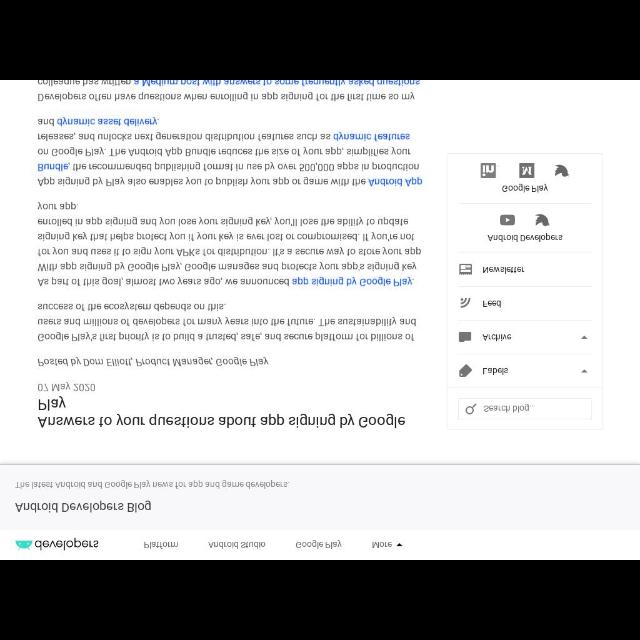icon: (486, 232, 564, 242), (456, 364, 474, 378), (459, 262, 473, 276), (460, 296, 472, 310), (466, 402, 476, 416), (458, 332, 472, 342), (582, 333, 588, 341), (582, 367, 588, 375), (397, 542, 403, 548)
image: (16, 536, 102, 554), (518, 164, 534, 180), (555, 162, 571, 178), (536, 211, 550, 227), (482, 162, 496, 178), (500, 214, 516, 226)
input: (457, 398, 595, 419)
link: (134, 81, 422, 89), (292, 276, 413, 288), (58, 116, 158, 128), (334, 129, 412, 141), (370, 176, 422, 188), (38, 164, 68, 172)
spinner: (480, 355, 602, 389), (478, 323, 602, 352), (370, 536, 404, 550)
text: (38, 202, 422, 288), (38, 120, 426, 188), (38, 301, 418, 341), (37, 397, 409, 428), (38, 80, 422, 102), (37, 352, 269, 368), (15, 478, 291, 490), (17, 498, 153, 516), (38, 382, 96, 393), (484, 402, 538, 413), (212, 540, 266, 550), (297, 540, 343, 550), (145, 540, 179, 552), (502, 184, 550, 192), (481, 267, 525, 275), (482, 332, 512, 342), (481, 366, 509, 376), (482, 298, 503, 310), (370, 540, 392, 548)
